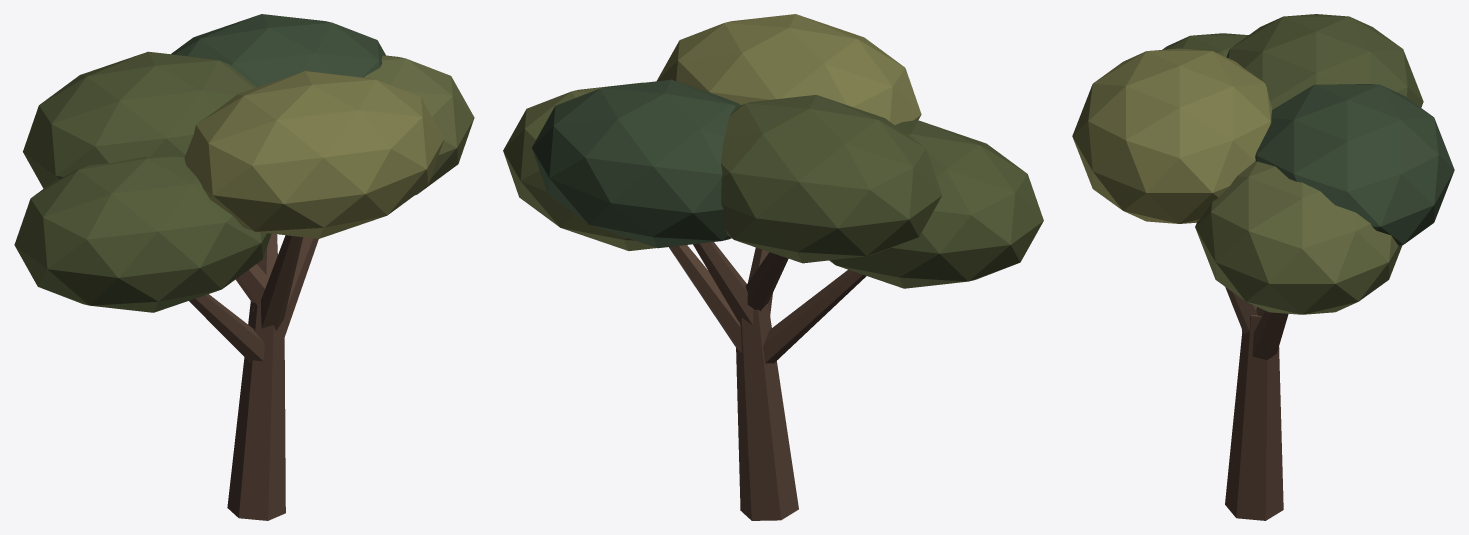
Rendered from cedar.glb.
3 views of the same model, side by side, from view 1: azimuth 30°, elevation 25°; view 2: azimuth 150°, elevation 25°; view 3: azimuth 270°, elevation 25° (orthographic).
Parts seen in each view (by area): view 1: Cedar crown.002, Cedar crown, Cedar crown.004, Cedar crown.003, Bent trunk, Cedar crown.001, Fork.002, Fork, Fork.001, Fork.004; view 2: Cedar crown.004, Cedar crown.003, Cedar crown.002, Cedar crown, Bent trunk, Cedar crown.001, Fork, Fork.001, Fork.003, Fork.004; view 3: Cedar crown.002, Cedar crown.003, Cedar crown.001, Cedar crown.004, Bent trunk, Fork.001, Cedar crown, Fork.002.
Boxes of the visible parts, bbox=[...] form: Cedar crown.002: bbox=[184, 71, 444, 238]; Cedar crown: bbox=[14, 156, 271, 312]; Cedar crown.004: bbox=[23, 51, 256, 188]; Cedar crown.003: bbox=[171, 14, 386, 87]; Bent trunk: bbox=[227, 301, 285, 520]; Cedar crown.001: bbox=[364, 55, 474, 195]; Fork.002: bbox=[261, 235, 302, 330]; Fork: bbox=[189, 294, 264, 362]; Fork.001: bbox=[284, 237, 318, 336]; Fork.004: bbox=[235, 264, 269, 306]; Cedar crown.004: bbox=[720, 95, 942, 263]; Cedar crown.003: bbox=[532, 79, 740, 248]; Cedar crown.002: bbox=[657, 14, 921, 124]; Cedar crown: bbox=[829, 120, 1043, 288]; Bent trunk: bbox=[736, 303, 798, 520]; Cedar crown.001: bbox=[503, 82, 655, 250]; Fork: bbox=[763, 269, 866, 363]; Fork.001: bbox=[669, 245, 741, 352]; Fork.003: bbox=[693, 242, 764, 325]; Fork.004: bbox=[745, 252, 788, 311]; Cedar crown.002: bbox=[1072, 48, 1272, 223]; Cedar crown.003: bbox=[1255, 84, 1454, 246]; Cedar crown.001: bbox=[1195, 161, 1402, 314]; Cedar crown.004: bbox=[1226, 14, 1423, 109]; Bent trunk: bbox=[1225, 315, 1283, 520]; Fork.001: bbox=[1252, 310, 1288, 359]; Cedar crown: bbox=[1162, 33, 1248, 56]; Fork.002: bbox=[1225, 287, 1257, 333].
Bounding box in the file's own units: 3.83 × 3.54 × 2.71.
